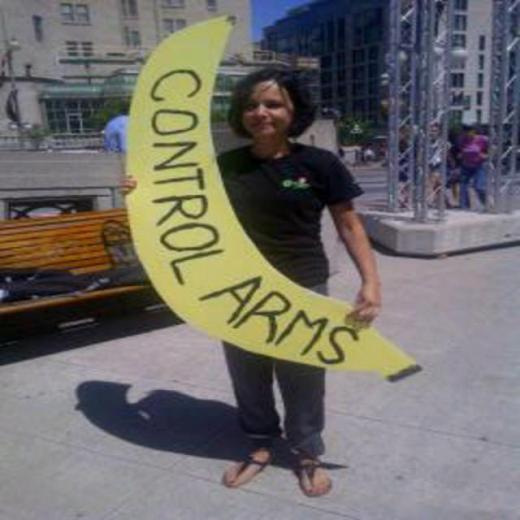Banana: (122, 13, 422, 385)
